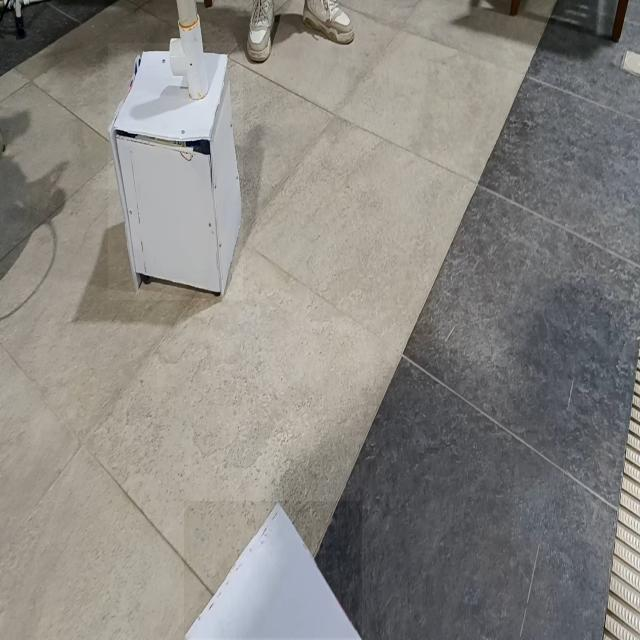Cube: (108, 43, 243, 300)
Cuboid: (184, 501, 362, 638)
